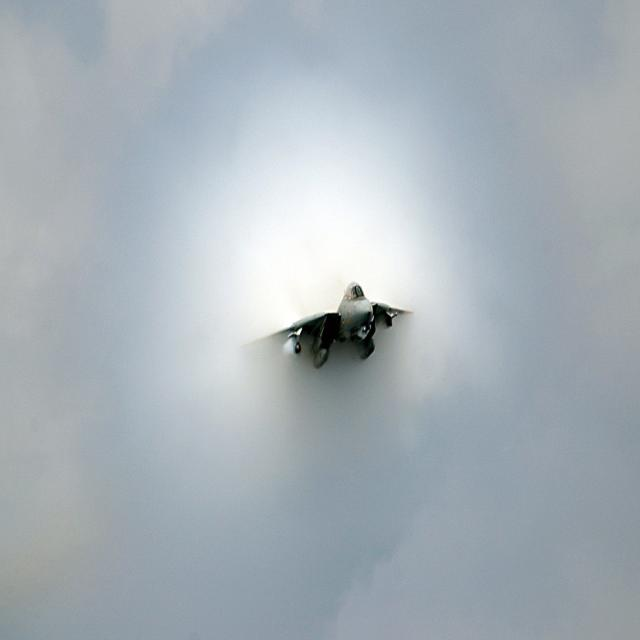MIL_Plane: (238, 278, 415, 371)
